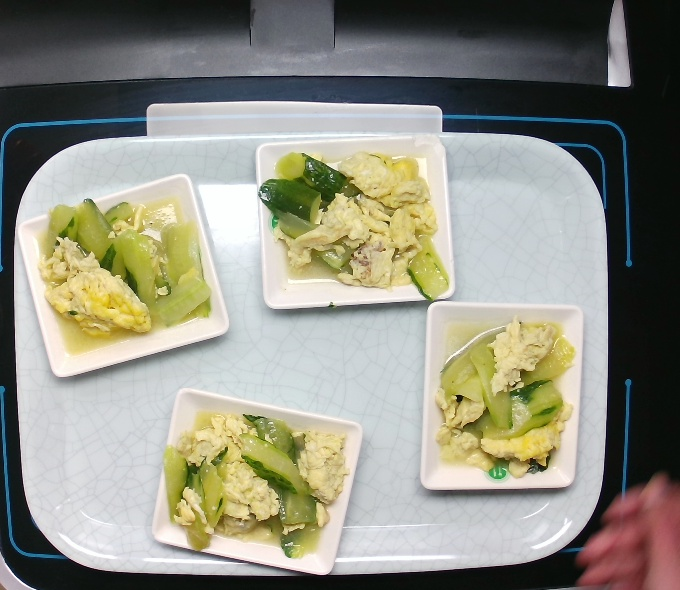wcq-DanHuangHuangGua: (261, 144, 447, 299), (33, 187, 219, 342), (160, 404, 346, 559), (432, 315, 573, 464)
